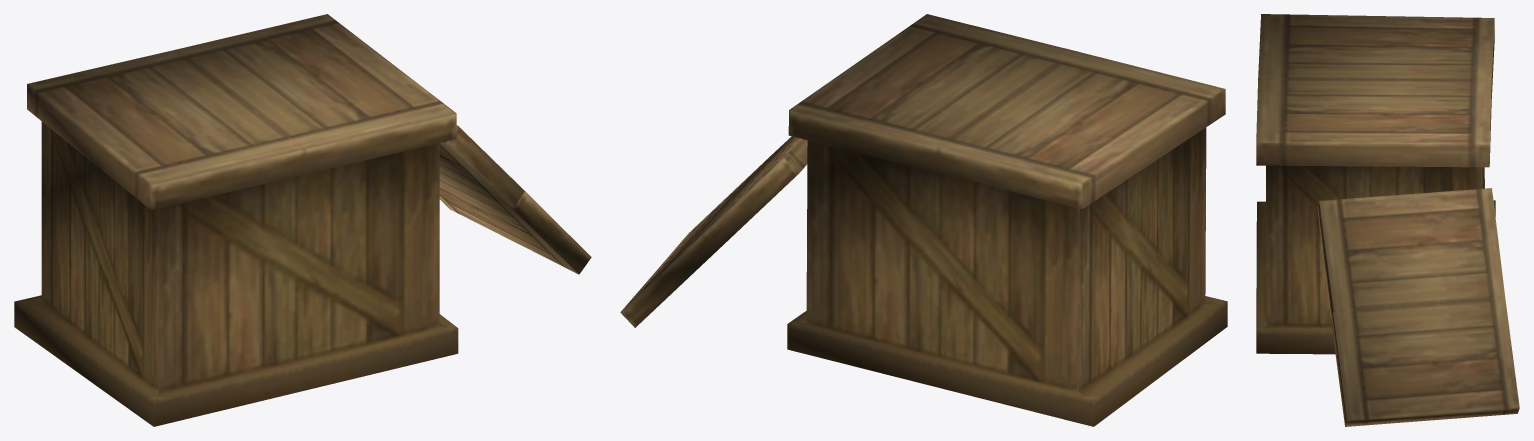
File: Box_MaChe_B.FBX
3 views of the same model, side by side, from view 1: azimuth 30°, elevation 25°; view 2: azimuth 150°, elevation 25°; view 3: azimuth 270°, elevation 25° (orthographic). The views are drawn at different scales.
Parts seen in each view (by area): view 1: Box_MaChe_B; view 2: Box_MaChe_B; view 3: Box_MaChe_B.
Boxes of the visible parts, left/top/right/bottom form: Box_MaChe_B: left=14, top=14, right=591, bottom=426; Box_MaChe_B: left=620, top=14, right=1227, bottom=426; Box_MaChe_B: left=1256, top=14, right=1519, bottom=426.
Size of the model in its own units: 158 by 74.24 by 84.18.
